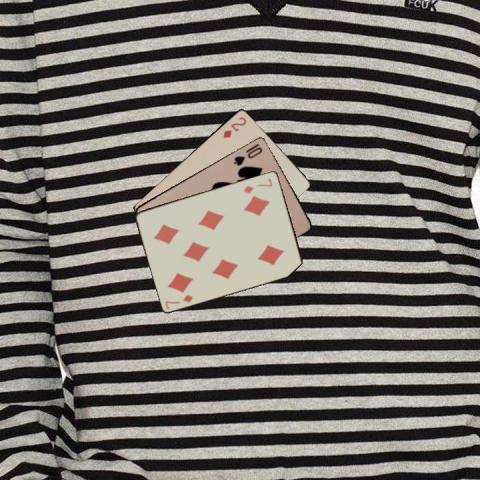10s: (231, 143, 264, 167)
2d: (220, 114, 248, 140)
7d: (240, 175, 274, 195), (162, 291, 195, 310)
